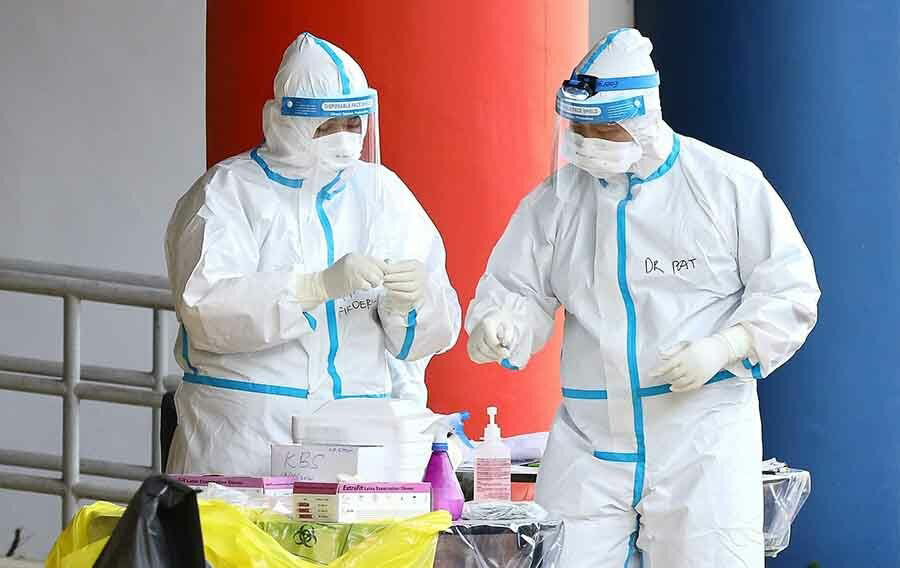Coverall: (466, 27, 813, 568), (168, 21, 458, 485)
Gloves: (650, 330, 752, 396), (297, 253, 381, 308), (464, 309, 522, 370), (381, 249, 425, 323)
with_mask: (563, 119, 639, 179), (315, 123, 367, 169)
